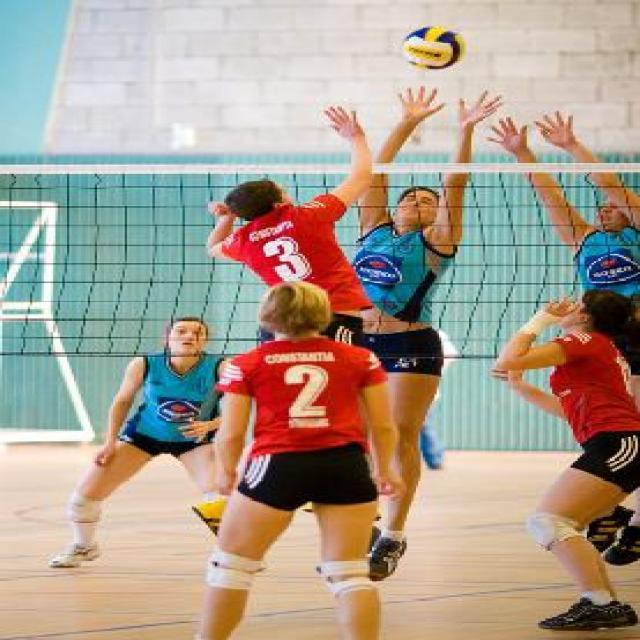volleyball: (402, 26, 467, 71)
